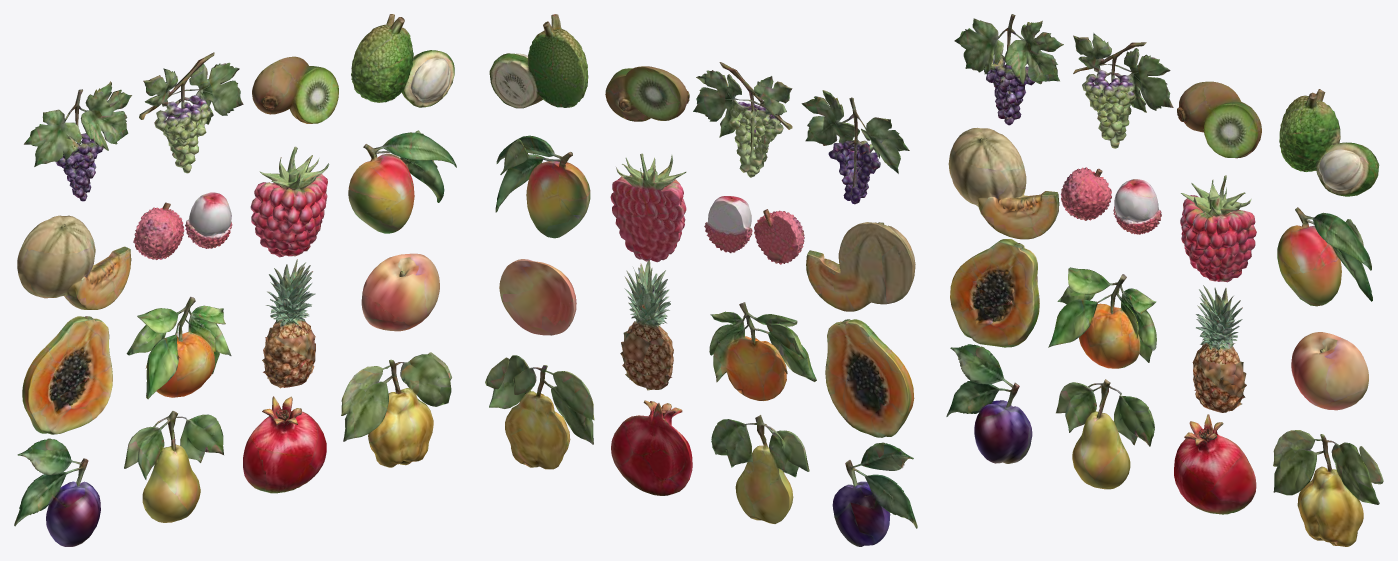
3 renders of one model, left to right at view 1: azimuth 30°, elevation 25°; view 2: azimuth 150°, elevation 25°; view 3: azimuth 330°, elevation 25°, orthographic.
Visible parts, largest first — view 1: Mesh 19, Mesh 3, Mesh 2, Mesh 15, Mesh 6, Mesh 5, Mesh 16, Mesh 4, Mesh 10, Mesh 11, Mesh 8, Mesh 1 (+5 smaller); view 2: Mesh 19, Mesh 3, Mesh 2, Mesh 6, Mesh 5, Mesh 15, Mesh 16, Mesh 11, Mesh 8, Mesh 10, Mesh 4, Mesh 1 (+5 smaller); view 3: Mesh 19, Mesh 3, Mesh 2, Mesh 6, Mesh 5, Mesh 15, Mesh 16, Mesh 4, Mesh 8, Mesh 1, Mesh 10, Mesh 11 (+5 smaller).
Boxes of the visible parts, x1=… form: Mesh 19: x1=341, y1=352, x2=451, y2=467; Mesh 3: x1=22, y1=316, x2=112, y2=434; Mesh 2: x1=17, y1=215, x2=131, y2=309; Mesh 15: x1=348, y1=130, x2=456, y2=233; Mesh 6: x1=126, y1=296, x2=231, y2=399; Mesh 5: x1=124, y1=411, x2=223, y2=522; Mesh 16: x1=351, y1=14, x2=454, y2=107; Mesh 4: x1=24, y1=81, x2=131, y2=201; Mesh 10: x1=243, y1=396, x2=326, y2=493; Mesh 11: x1=250, y1=146, x2=329, y2=257; Mesh 8: x1=139, y1=52, x2=243, y2=173; Mesh 1: x1=14, y1=438, x2=100, y2=546; Mesh 19: x1=485, y1=355, x2=594, y2=469; Mesh 3: x1=825, y1=319, x2=914, y2=437; Mesh 2: x1=806, y1=222, x2=915, y2=311; Mesh 6: x1=709, y1=302, x2=816, y2=400; Mesh 5: x1=711, y1=415, x2=809, y2=523; Mesh 15: x1=495, y1=135, x2=590, y2=238; Mesh 16: x1=489, y1=14, x2=588, y2=108; Mesh 11: x1=610, y1=153, x2=686, y2=262; Mesh 8: x1=693, y1=62, x2=792, y2=177; Mesh 10: x1=611, y1=400, x2=692, y2=495; Mesh 4: x1=801, y1=90, x2=909, y2=204; Mesh 1: x1=832, y1=442, x2=917, y2=546; Mesh 19: x1=1273, y1=430, x2=1383, y2=546; Mesh 3: x1=950, y1=239, x2=1039, y2=347; Mesh 2: x1=948, y1=127, x2=1059, y2=239; Mesh 6: x1=1048, y1=267, x2=1156, y2=368; Mesh 5: x1=1056, y1=379, x2=1154, y2=489; Mesh 15: x1=1277, y1=207, x2=1372, y2=306; Mesh 16: x1=1279, y1=89, x2=1379, y2=196; Mesh 4: x1=954, y1=14, x2=1063, y2=125; Mesh 8: x1=1073, y1=33, x2=1173, y2=148; Mesh 1: x1=946, y1=344, x2=1032, y2=463; Mesh 10: x1=1174, y1=414, x2=1256, y2=514; Mesh 11: x1=1180, y1=175, x2=1256, y2=282.
Size of the model in its own units: 1.9 by 1.9 by 0.1791.
17 materials, 17 textured.
